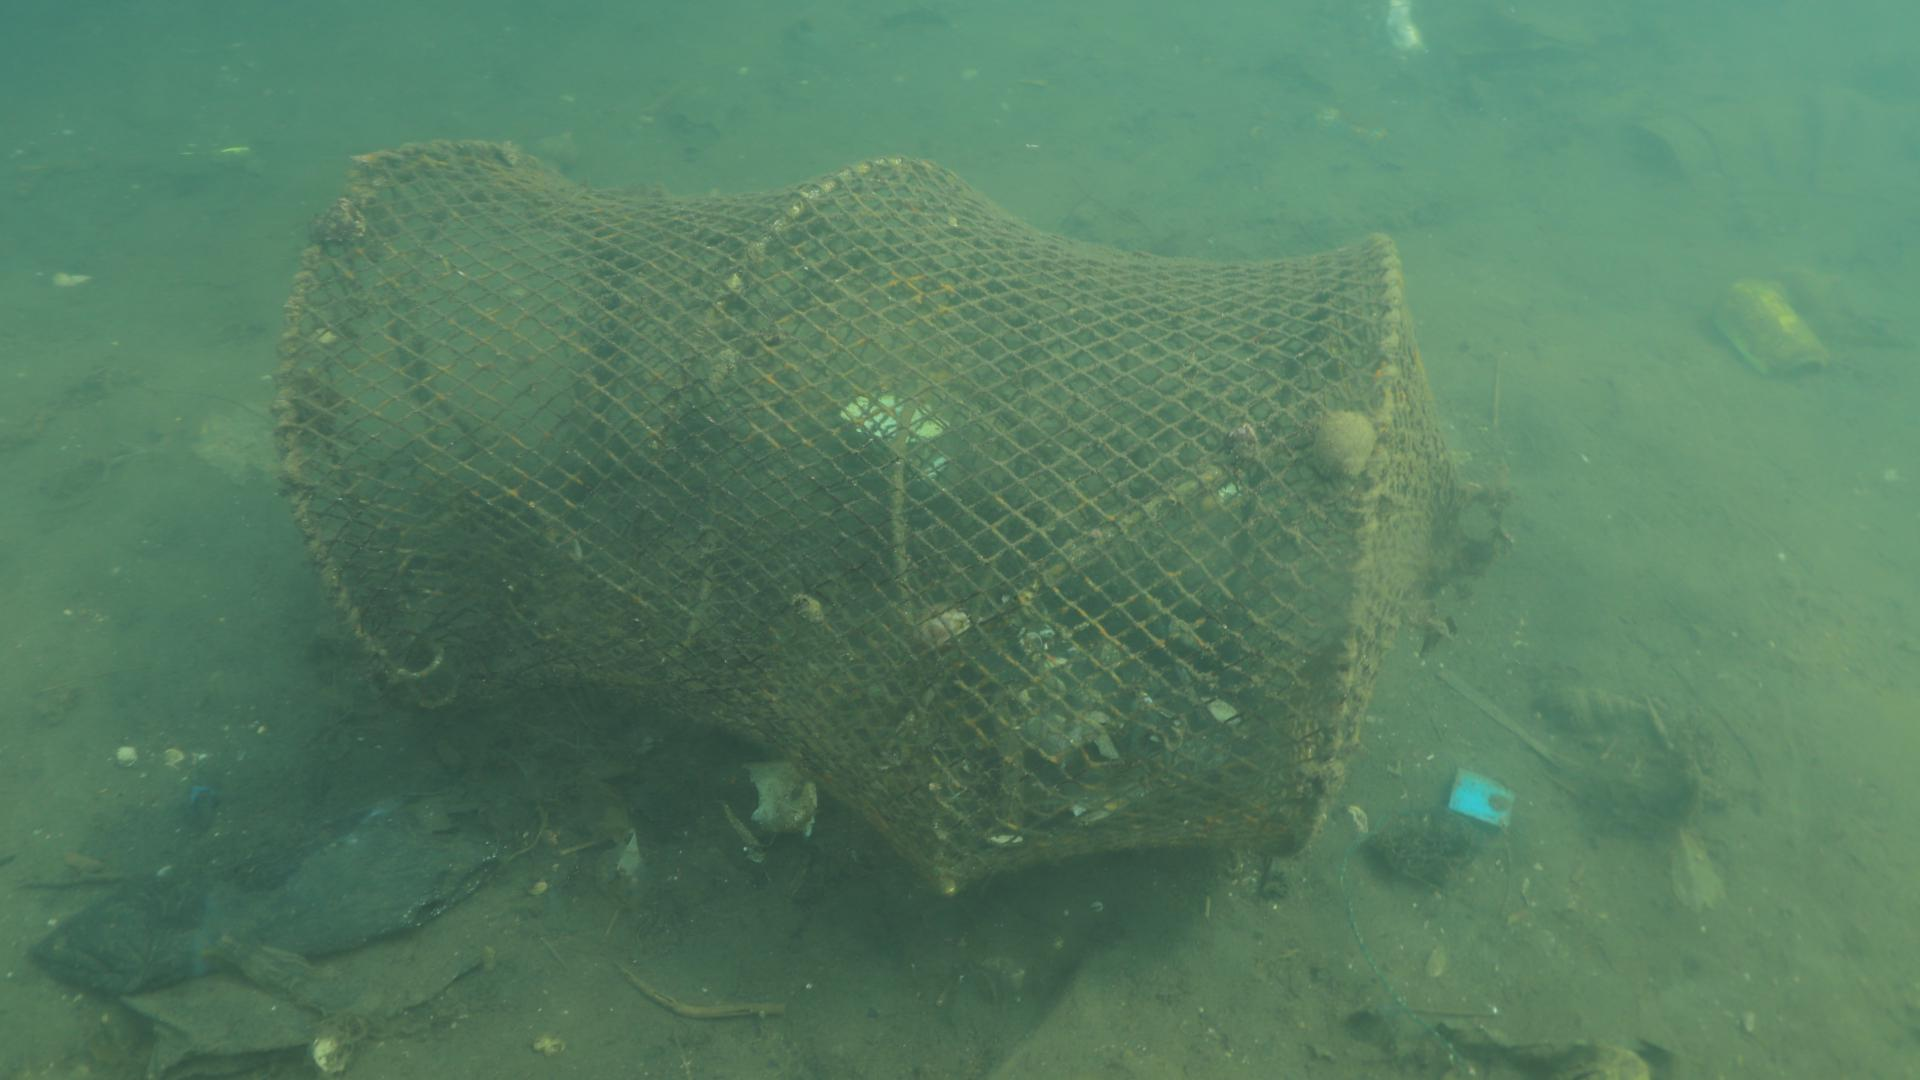spring fish trap: (266, 136, 1516, 898)
